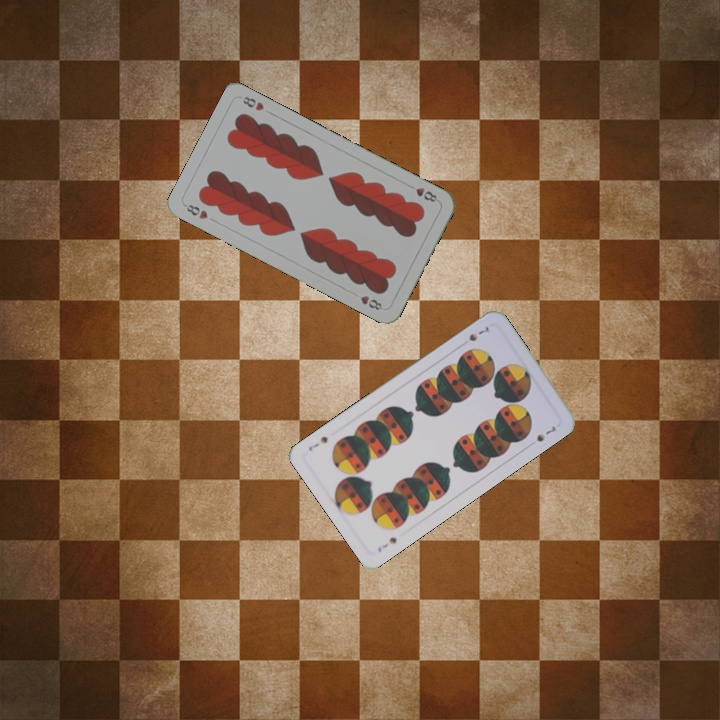H8: (404, 180, 440, 205), (181, 200, 210, 222)
S7: (373, 533, 399, 555), (465, 323, 491, 344)
